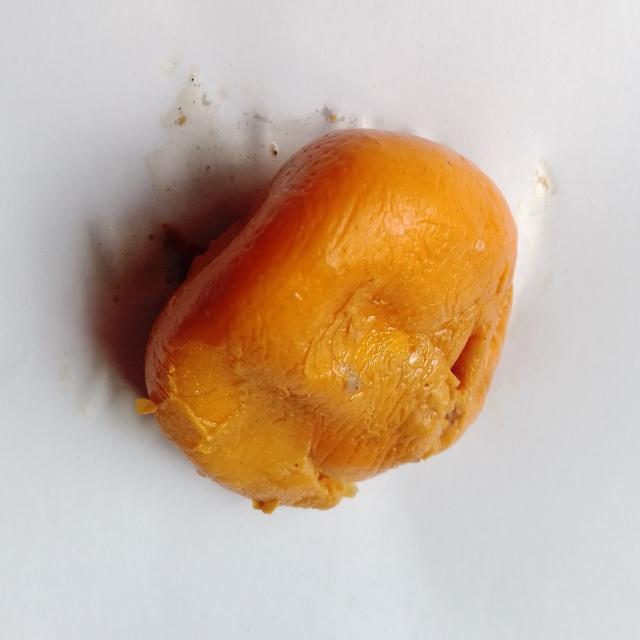orange: (139, 130, 516, 512)
